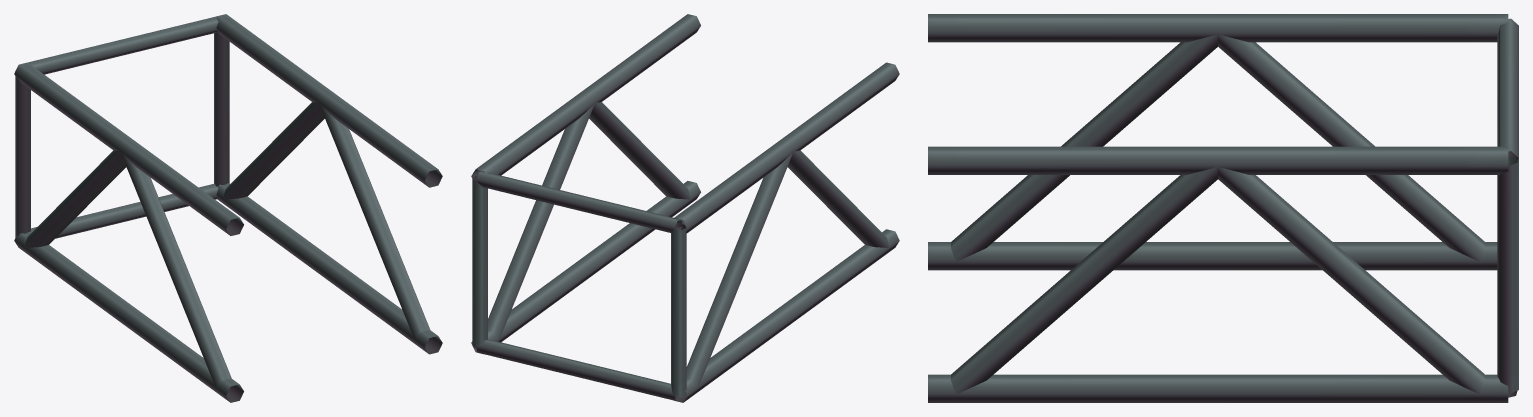
Rendered from viga.fbx.
3 renders of one model, left to right at view 1: azimuth 30°, elevation 25°; view 2: azimuth 150°, elevation 25°; view 3: azimuth 270°, elevation 25°, orthographic. The views are drawn at different scales.
Parts seen in each view (by area): view 1: viga; view 2: viga; view 3: viga.
Boxes of the visible parts, <box> form: viga: <box>14,14,442,402</box>; viga: <box>471,14,899,402</box>; viga: <box>928,14,1518,402</box>.
Size of the model in its own units: 24 by 19.38 by 41.45.
